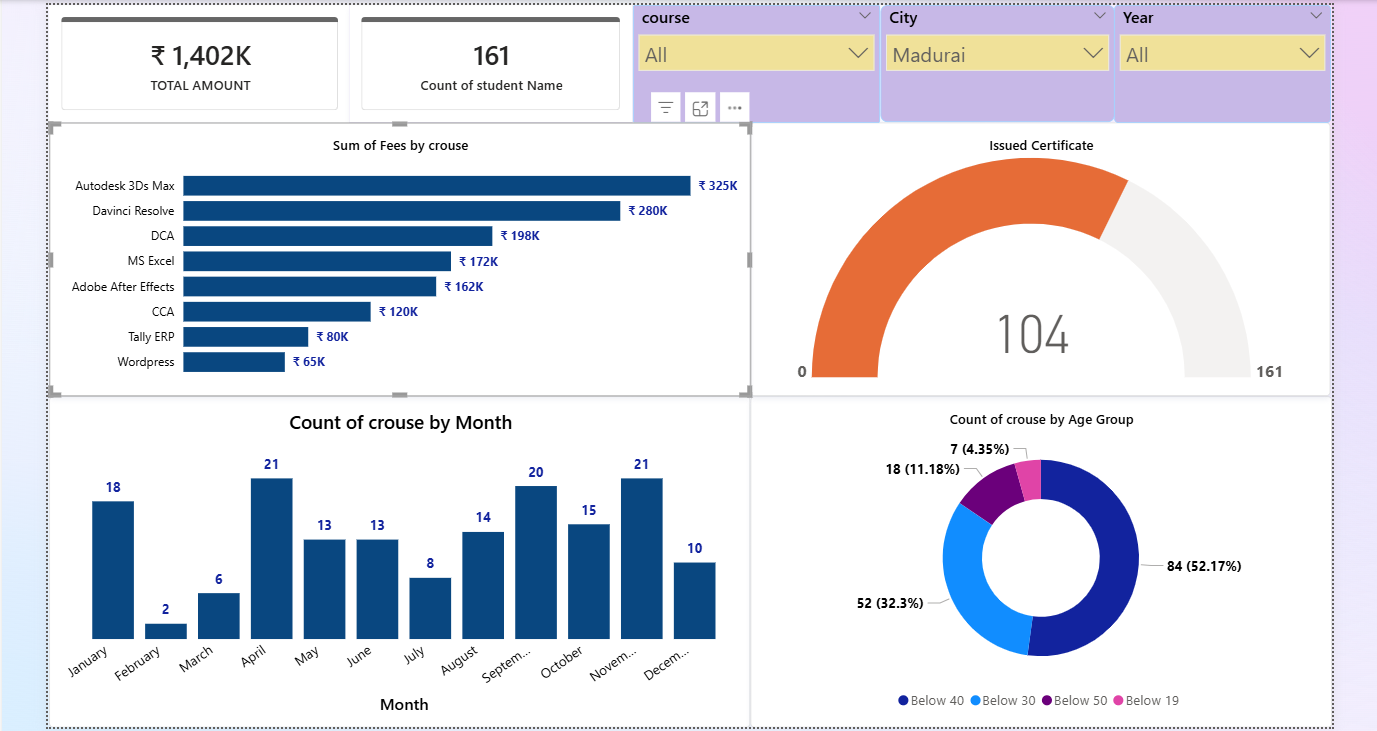

This screenshot's page, from the dashboard's own definition file:
{"tool":"powerbi","page":{"name":"Duplicate of Page 1","canvas":[1280,720],"ordinal":0},"visuals":[{"type":"clusteredColumnChart","fields":{"Category":["Student Course Details.Join of Date.Variation.Date Hierarchy.Year","Student Course Details.Join of Date.Variation.Date Hierarchy.Quarter","Student Course Details.Join of Date.Variation.Date Hierarchy.Month","Student Course Details.Join of Date.Variation.Date Hierarchy.Day"],"Y":["CountNonNull(Student Course Details.crouse)"]},"box":[1.2,390.1,699.5,330.2],"z":0},{"type":"donutChart","fields":{"Y":["CountNonNull(Student Course Details.crouse)"],"Category":["Student Course Details.Age Group"]},"box":[700.7,390.1,579.6,330.2],"z":1000},{"type":"clusteredBarChart","fields":{"Category":["Student Course Details.crouse"],"Y":["Sum(Student Course Details.Fees)"]},"box":[1.2,117.4,699.5,272.7],"z":2000},{"type":"cardVisual","fields":{"Data":["Sum(Student Course Details.Fees)"]},"box":[1.2,0,300,117.5],"z":3000},{"type":"cardVisual","fields":{"Data":["CountNonNull(Student Course Details.student Name)"]},"box":[300.8,0,282.5,117.4],"z":4000},{"type":"gauge","fields":{"Y":["Student Course Details.countyes"]},"box":[701.2,117.5,578.8,272.5],"z":5000},{"type":"slicer","fields":{"Values":["Student Course Details.Join of Date.Variation.Date Hierarchy.Year"]},"box":[1063.8,0,216.2,117.5],"z":6000},{"type":"slicer","fields":{"Values":["personal Details.City"]},"box":[830,0,233.8,117.5],"z":7000},{"type":"slicer","fields":{"Values":["Student Course Details.crouse"]},"box":[583.8,0,246.2,117.5],"z":8000}]}

Visuals, with their boxes on the page's 1280x720 design canvas (x1, y1, x2, y2). These are canvas units, not pixel positions in the 1377x731 screenshot, which may show the page scaled, cropped or inside an application window:
clusteredColumnChart - Student Course Details.Join of Date.Variation.Date Hierarchy.Year x Student Course Details.Join of Date.Variation.Date Hierarchy.Quarter: bbox=(1, 390, 701, 720)
donutChart - CountNonNull(Student Course Details.crouse) x Student Course Details.Age Group: bbox=(701, 390, 1280, 720)
clusteredBarChart - Student Course Details.crouse x Sum(Student Course Details.Fees): bbox=(1, 117, 701, 390)
cardVisual - Sum(Student Course Details.Fees): bbox=(1, 0, 301, 118)
cardVisual - CountNonNull(Student Course Details.student Name): bbox=(301, 0, 583, 117)
gauge - Student Course Details.countyes: bbox=(701, 118, 1280, 390)
slicer - Student Course Details.Join of Date.Variation.Date Hierarchy.Year: bbox=(1064, 0, 1280, 118)
slicer - personal Details.City: bbox=(830, 0, 1064, 118)
slicer - Student Course Details.crouse: bbox=(584, 0, 830, 118)
